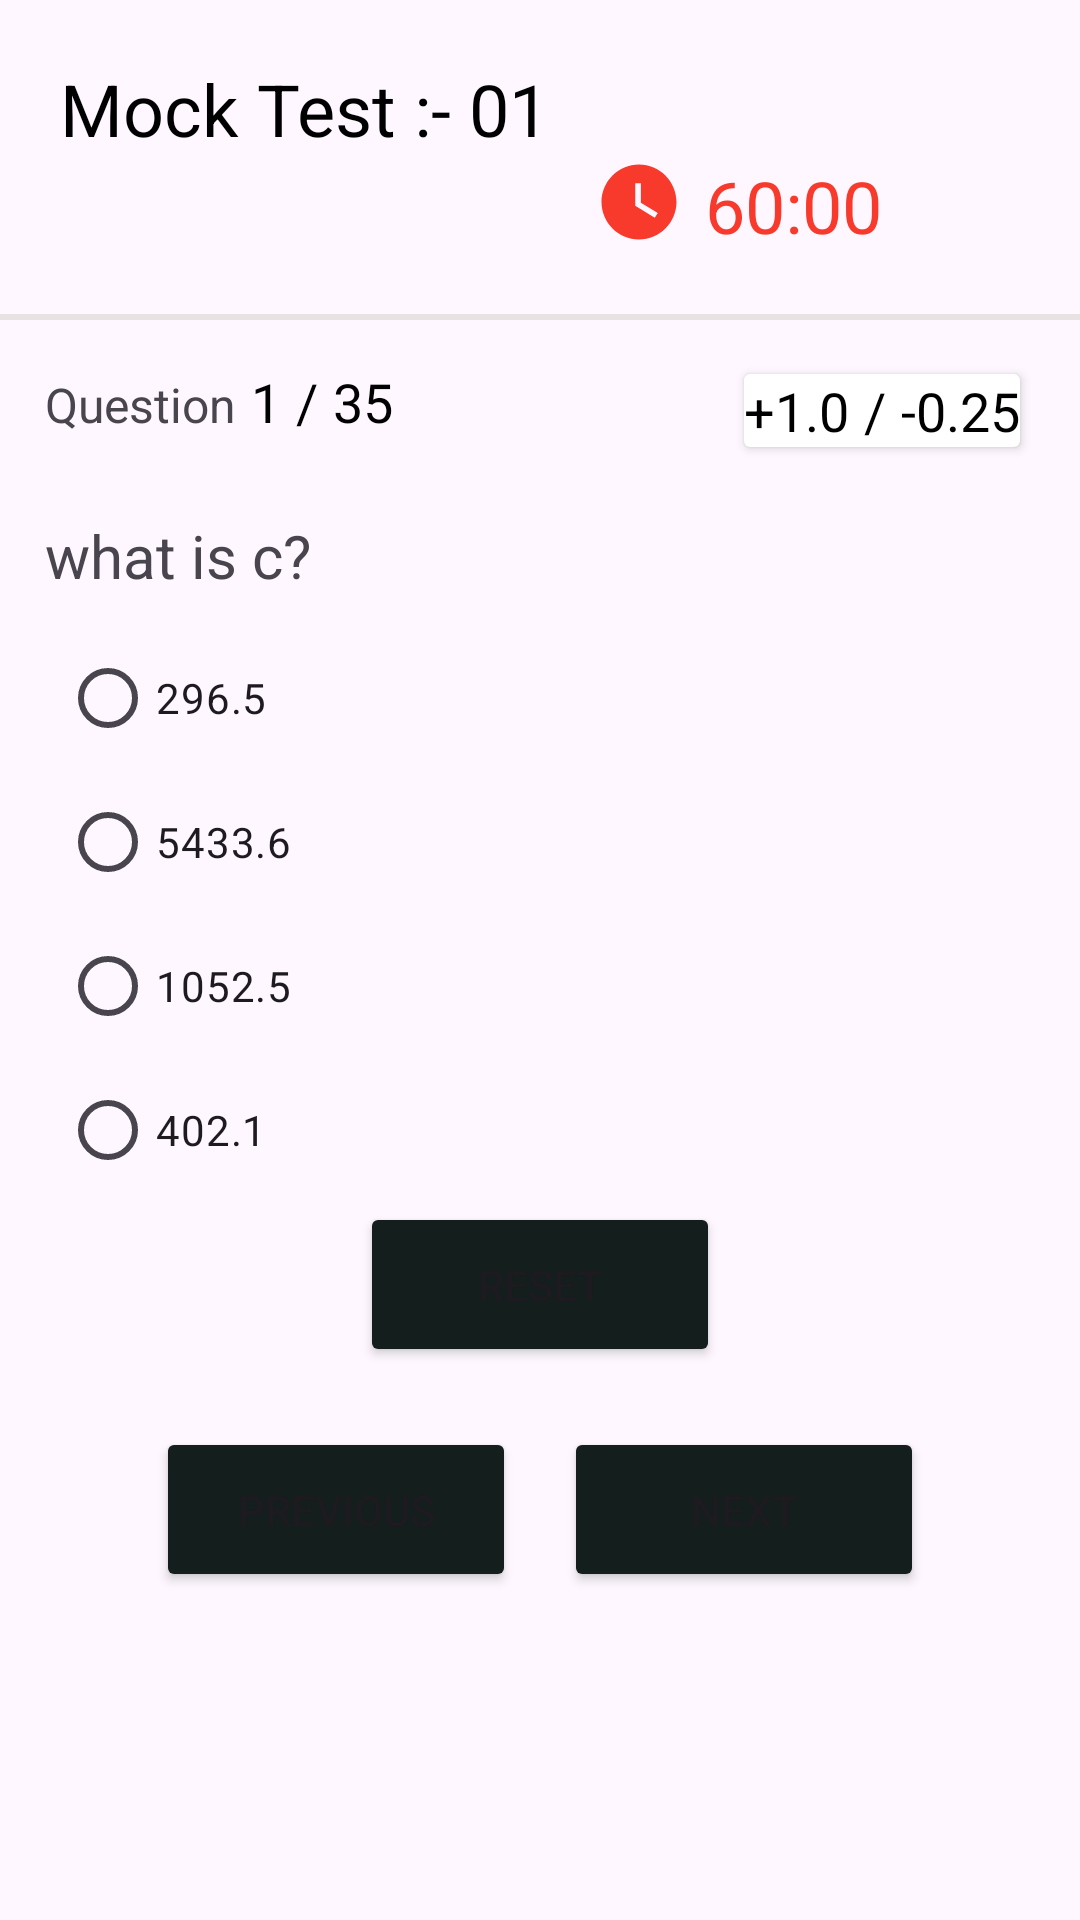

Screen size 1080×1920. Icon name, then its center in pixels as [x,y]:
clock: [639,202]
